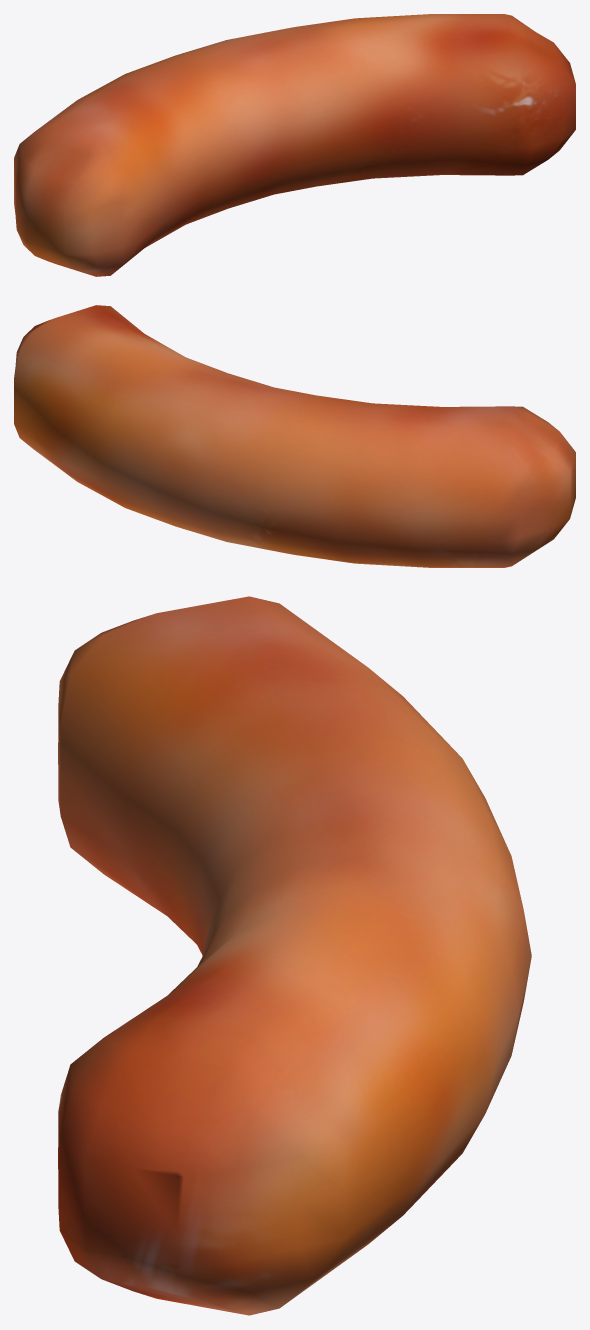
Rendered from Ingredients_Sausege.fbx.
The picture shows the model from 3 angles, top to bottom: view 1: azimuth 30°, elevation 25°; view 2: azimuth 150°, elevation 25°; view 3: azimuth 270°, elevation 25°; orthographic projection. The views are drawn at different scales.
Visible parts, largest first — view 1: Sausege; view 2: Sausege; view 3: Sausege.
Part boxes in pixels (x1,y1,x2,y2): Sausege: [14, 14, 575, 276]; Sausege: [14, 305, 575, 567]; Sausege: [58, 596, 531, 1315].
Bounding box in the file's own units: 3.93 × 1.02 × 1.48.
1 material, 1 textured.
